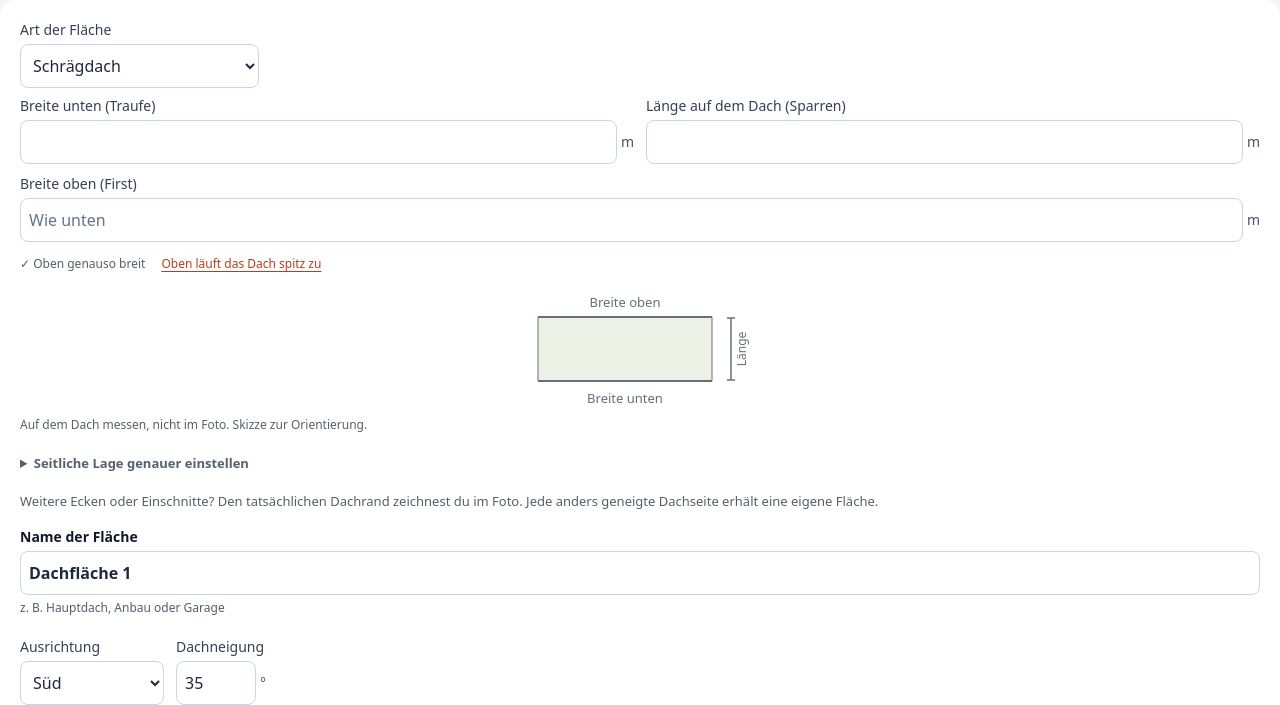
Kompakte Flächengrunddaten › schreibt leere oder negative Maße nicht ins Projektmodell
In the field labelled "Breite unten (Traufe) m": (318, 142) x1=20 y1=120 x2=617 y2=164, type "-1"
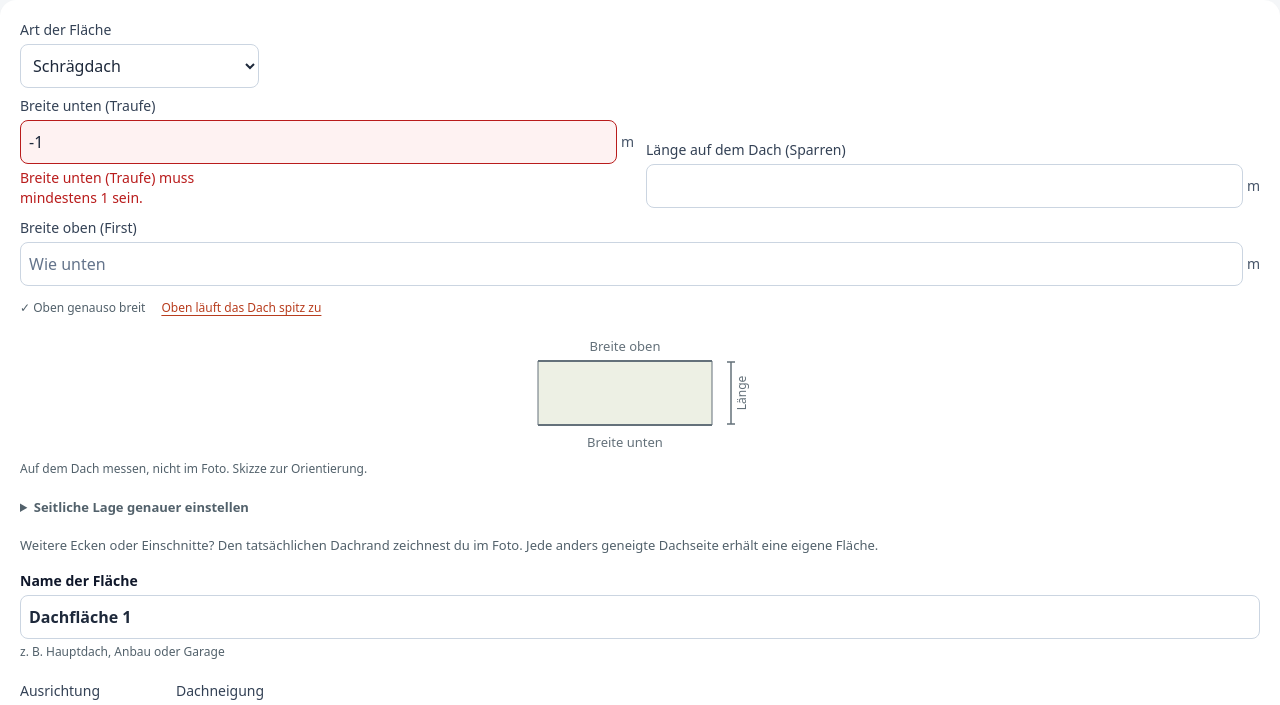
Clear the field labelled "Breite unten": (318, 142) x1=20 y1=120 x2=617 y2=164
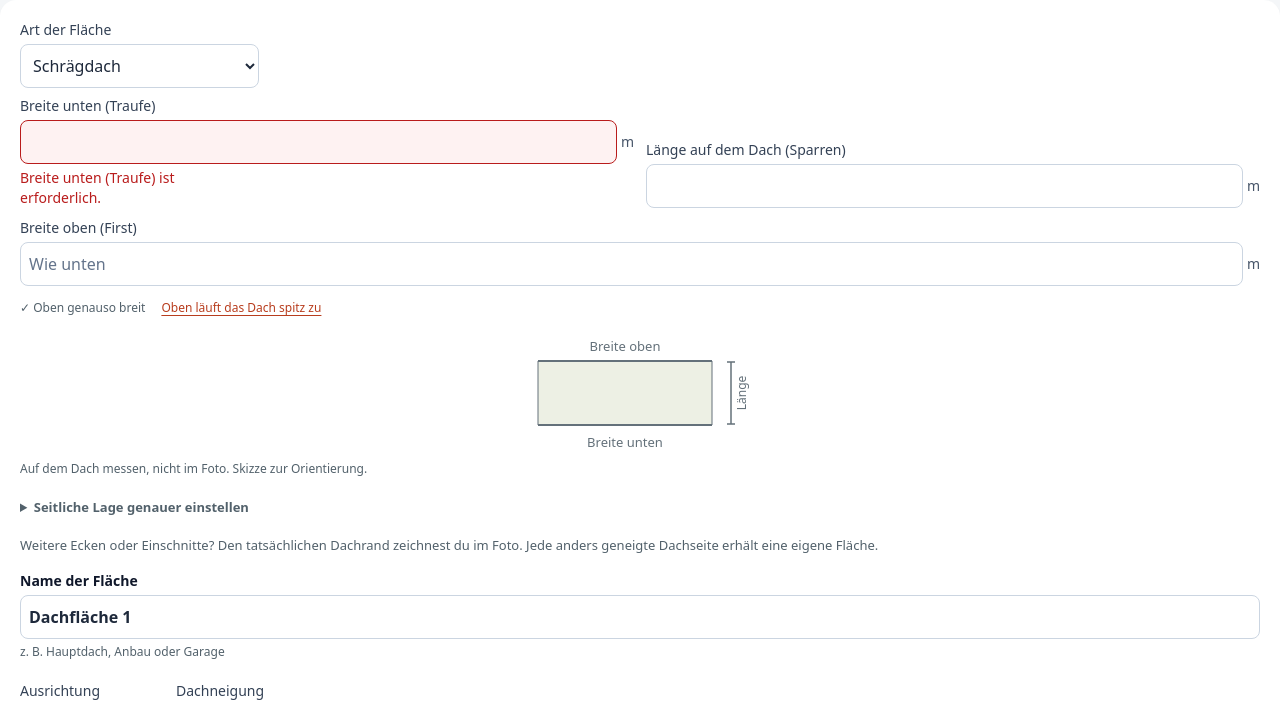
Expected: the text "Breite unten (Traufe) ist erforderlich." is shown, x1=20 y1=168 x2=174 y2=207
In the field labelled "Breite unten": (318, 142) x1=20 y1=120 x2=617 y2=164, type "-2"
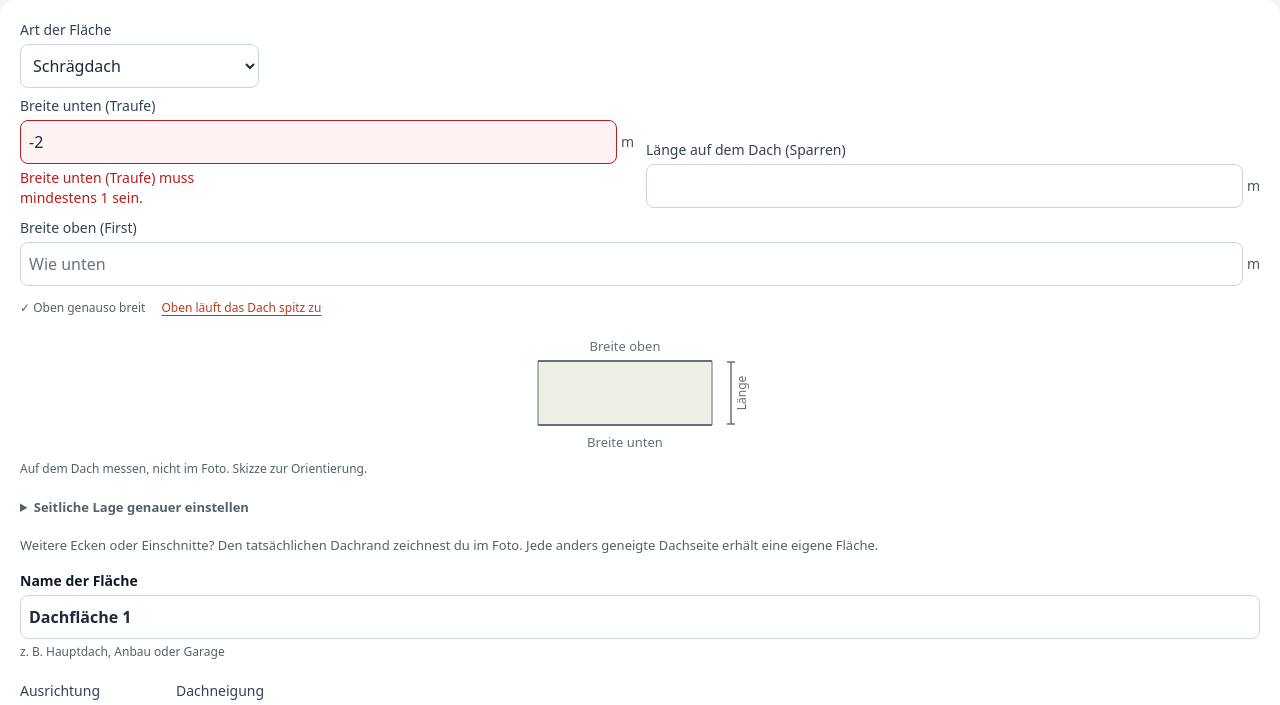
Expected: the text "Breite unten (Traufe) muss mindestens 1 sein." is shown, x1=20 y1=168 x2=212 y2=208
